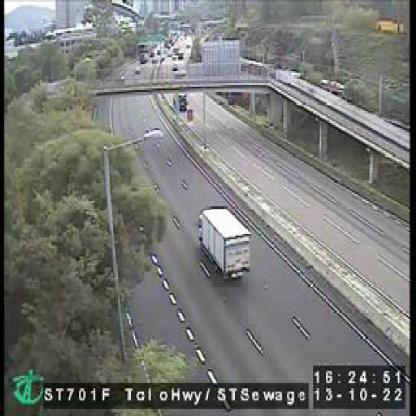Truck: (197, 204, 252, 280)
